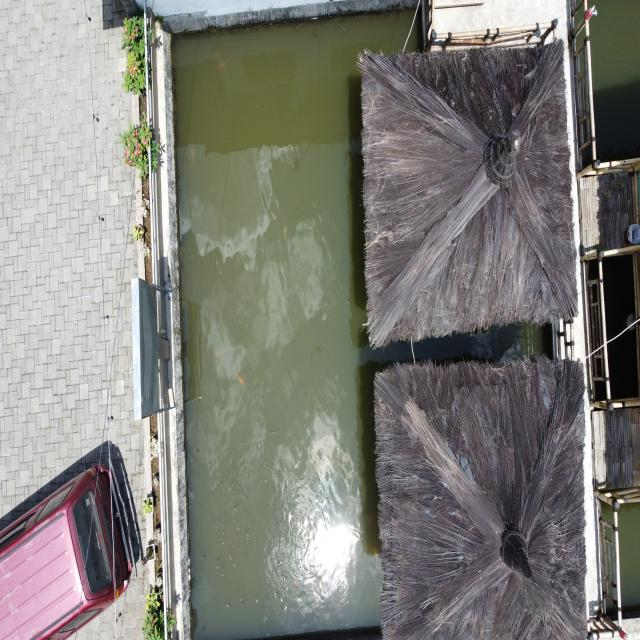Ponds: (153, 4, 565, 640)
